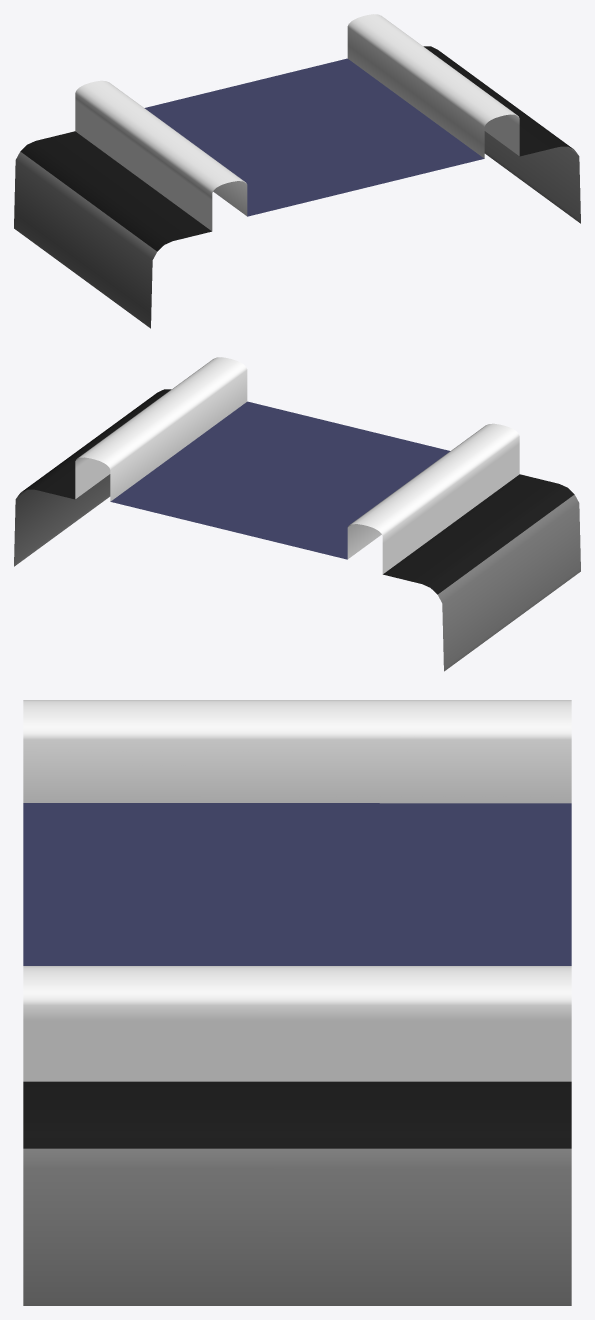
The model's file is Road_All.fbx.
3 renders of one model, top to bottom at view 1: azimuth 30°, elevation 25°; view 2: azimuth 150°, elevation 25°; view 3: azimuth 270°, elevation 25°, orthographic. The views are drawn at different scales.
Visible parts, largest first — view 1: Road_All; view 2: Road_All; view 3: Road_All.
Part boxes in pixels (<box>): Road_All: <box>14,14,580,328</box>; Road_All: <box>14,357,580,671</box>; Road_All: <box>23,700,571,1305</box>.
Size of the model in its own units: 363 by 102 by 200.
